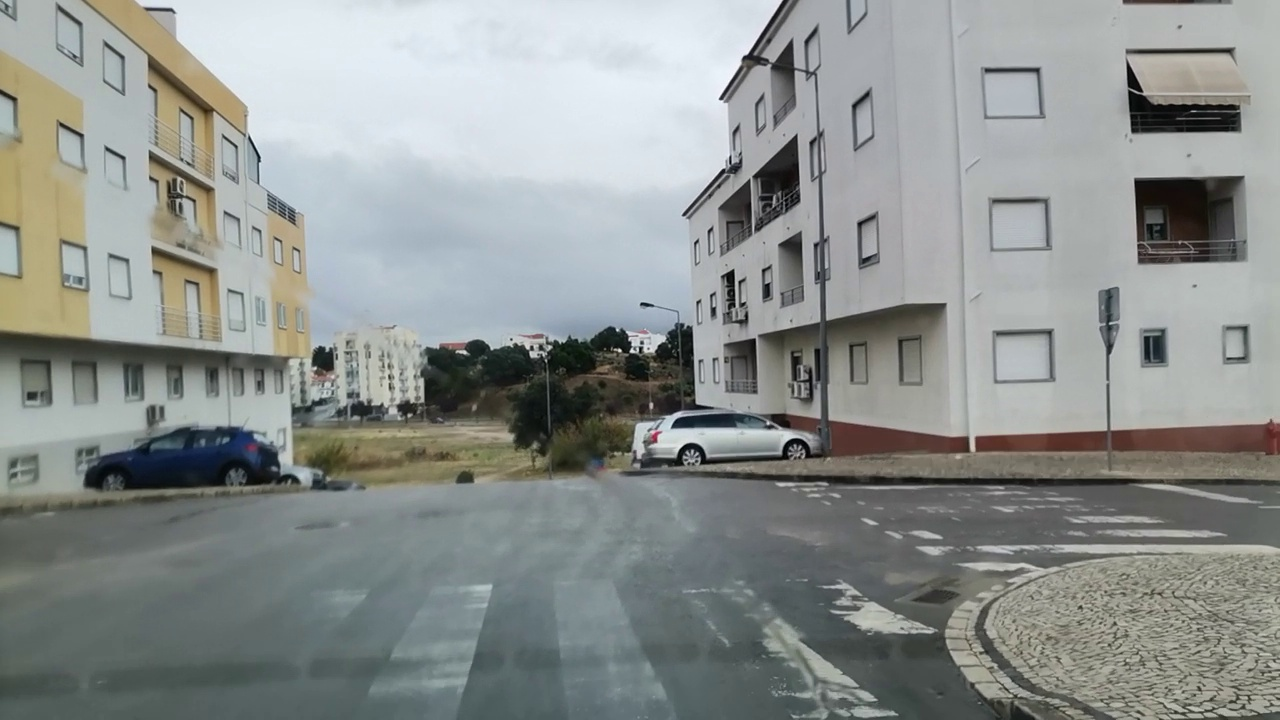Stairs: (182, 586, 945, 720), (774, 476, 1277, 572)
